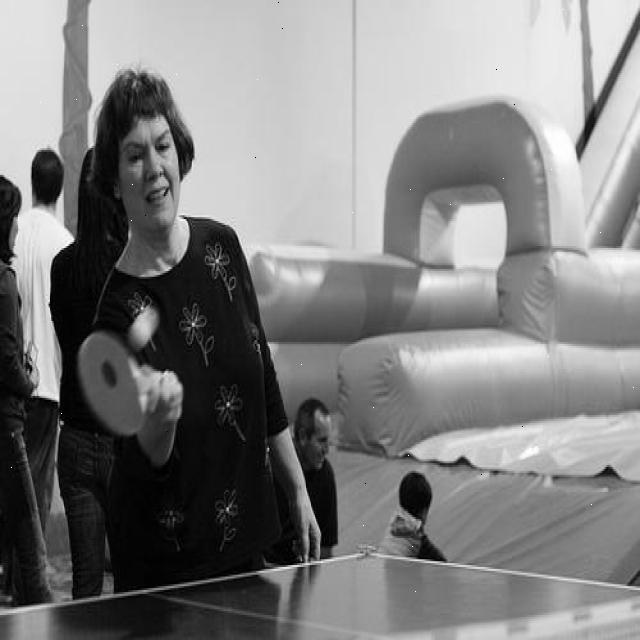ping-pong-ball: (130, 304, 158, 349)
